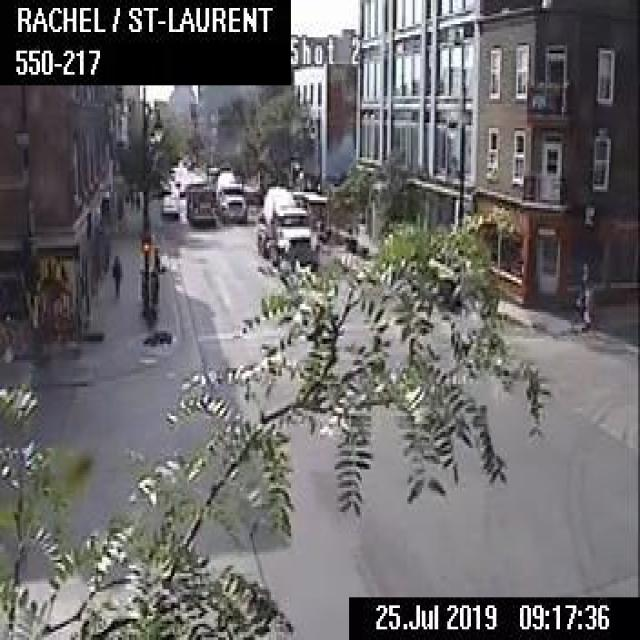pedestrian: (580, 259, 596, 328), (109, 250, 120, 298), (112, 194, 124, 227)
vehicle: (255, 181, 318, 264), (213, 165, 246, 220), (184, 181, 215, 222), (161, 193, 177, 215)
